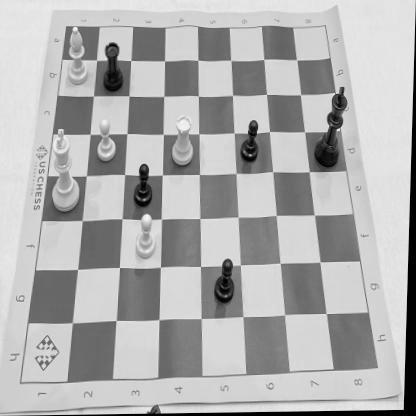black-king: (312, 82, 352, 172)
black-pawn: (213, 252, 240, 308), (132, 162, 157, 210), (240, 116, 262, 168)
black-rook: (100, 38, 127, 94)
white-bishop: (64, 23, 90, 88)
white-king: (47, 126, 86, 216)
white-pawn: (134, 212, 162, 261), (94, 114, 120, 164)
white-rook: (170, 112, 198, 170)
